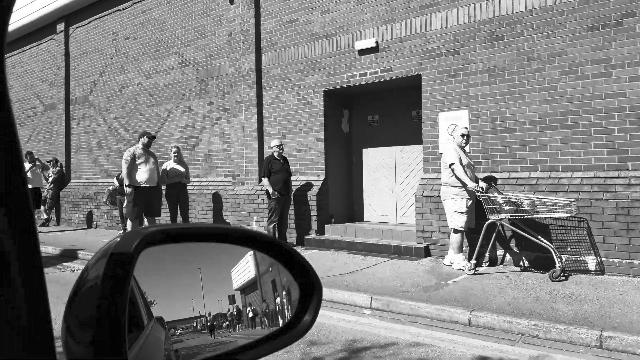berdiri: (428, 118, 492, 270), (257, 132, 301, 240)
